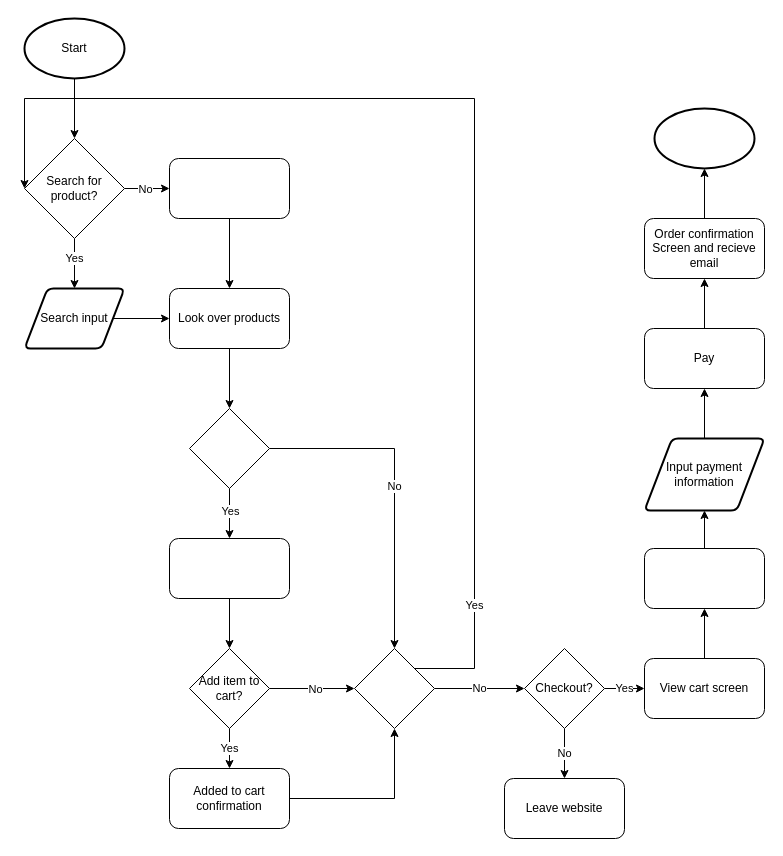
The diagram is 783 pixels wide and 856 high, and some of its shapes have lost their labels. The centre of each missing label's shape, as x and y in pixels:
"Continue shopping?" goes at (x=394, y=688).
"Explore products on Homepage" goes at (x=229, y=188).
"Leave site" goes at (x=704, y=138).
"Product's webpage opens" goes at (x=229, y=568).
"View payment" goes at (x=704, y=578).
"View specific product?" goes at (x=229, y=448).
